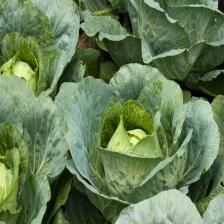cabbage: (53, 63, 220, 222)
